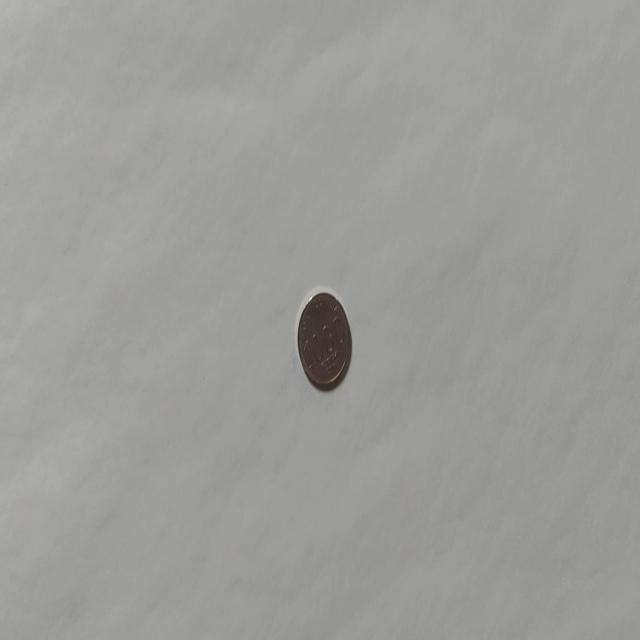seribu rupiah koin: (294, 285, 352, 391)
